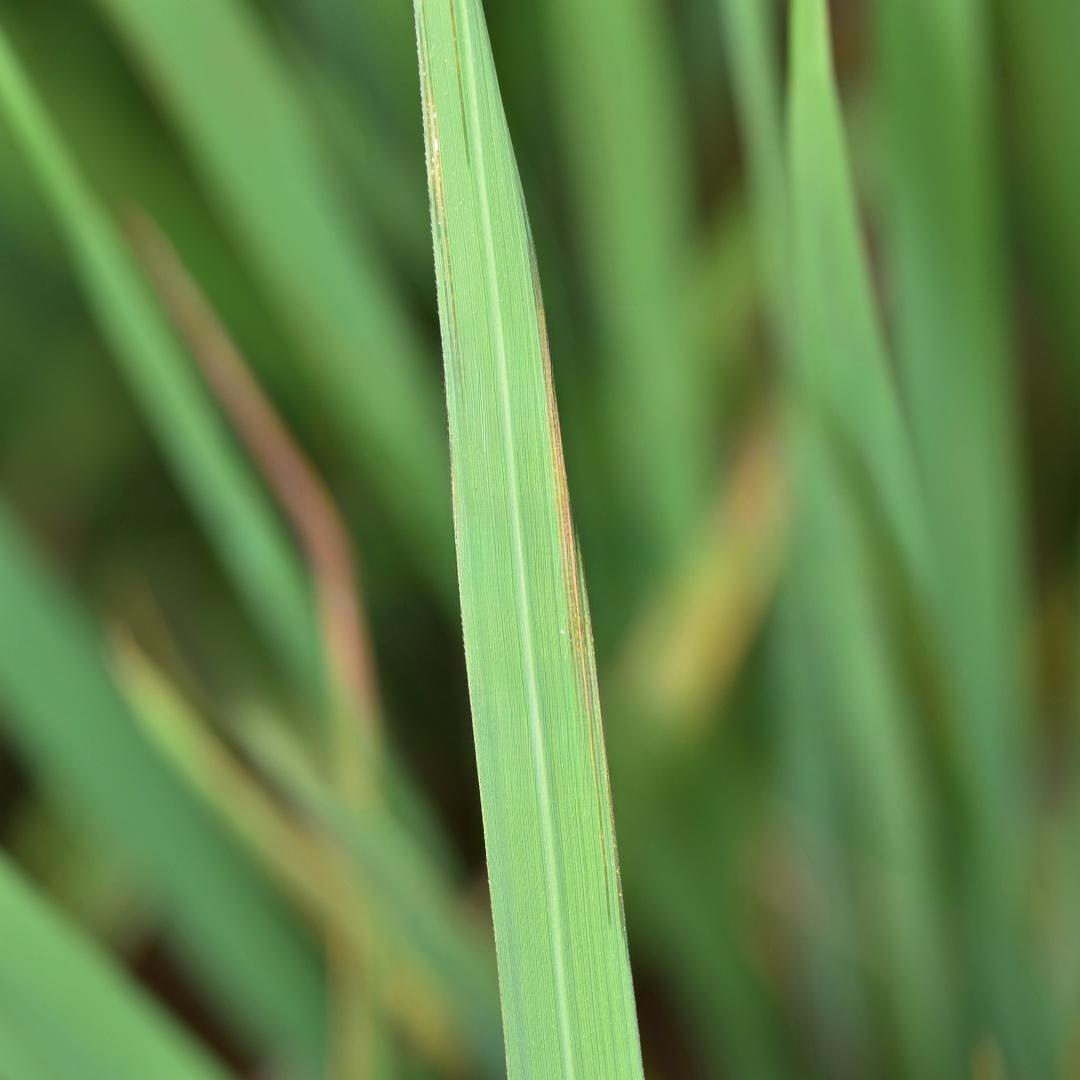BLS: (521, 190, 636, 1008), (414, 0, 460, 377), (450, 0, 471, 170)
